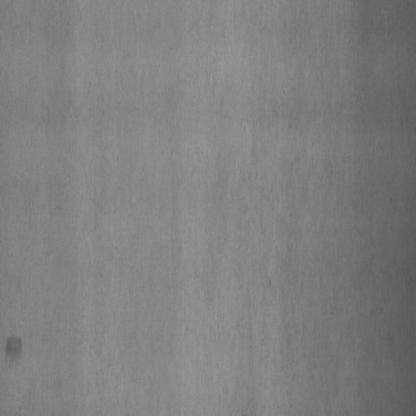oil_spot: (3, 328, 24, 370)
